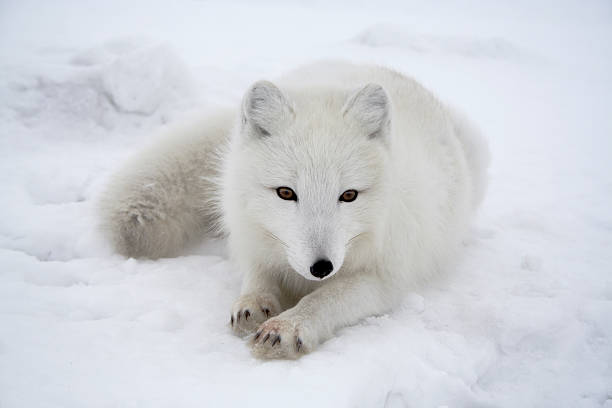arcticfox: (244, 139, 384, 287)
